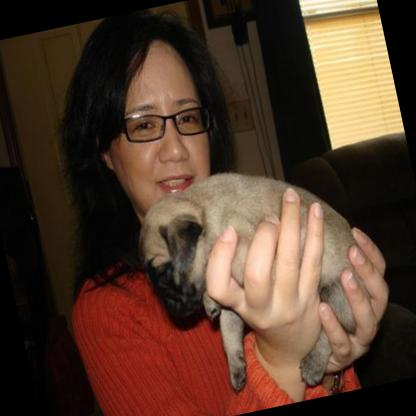pug: (127, 147, 390, 413)
